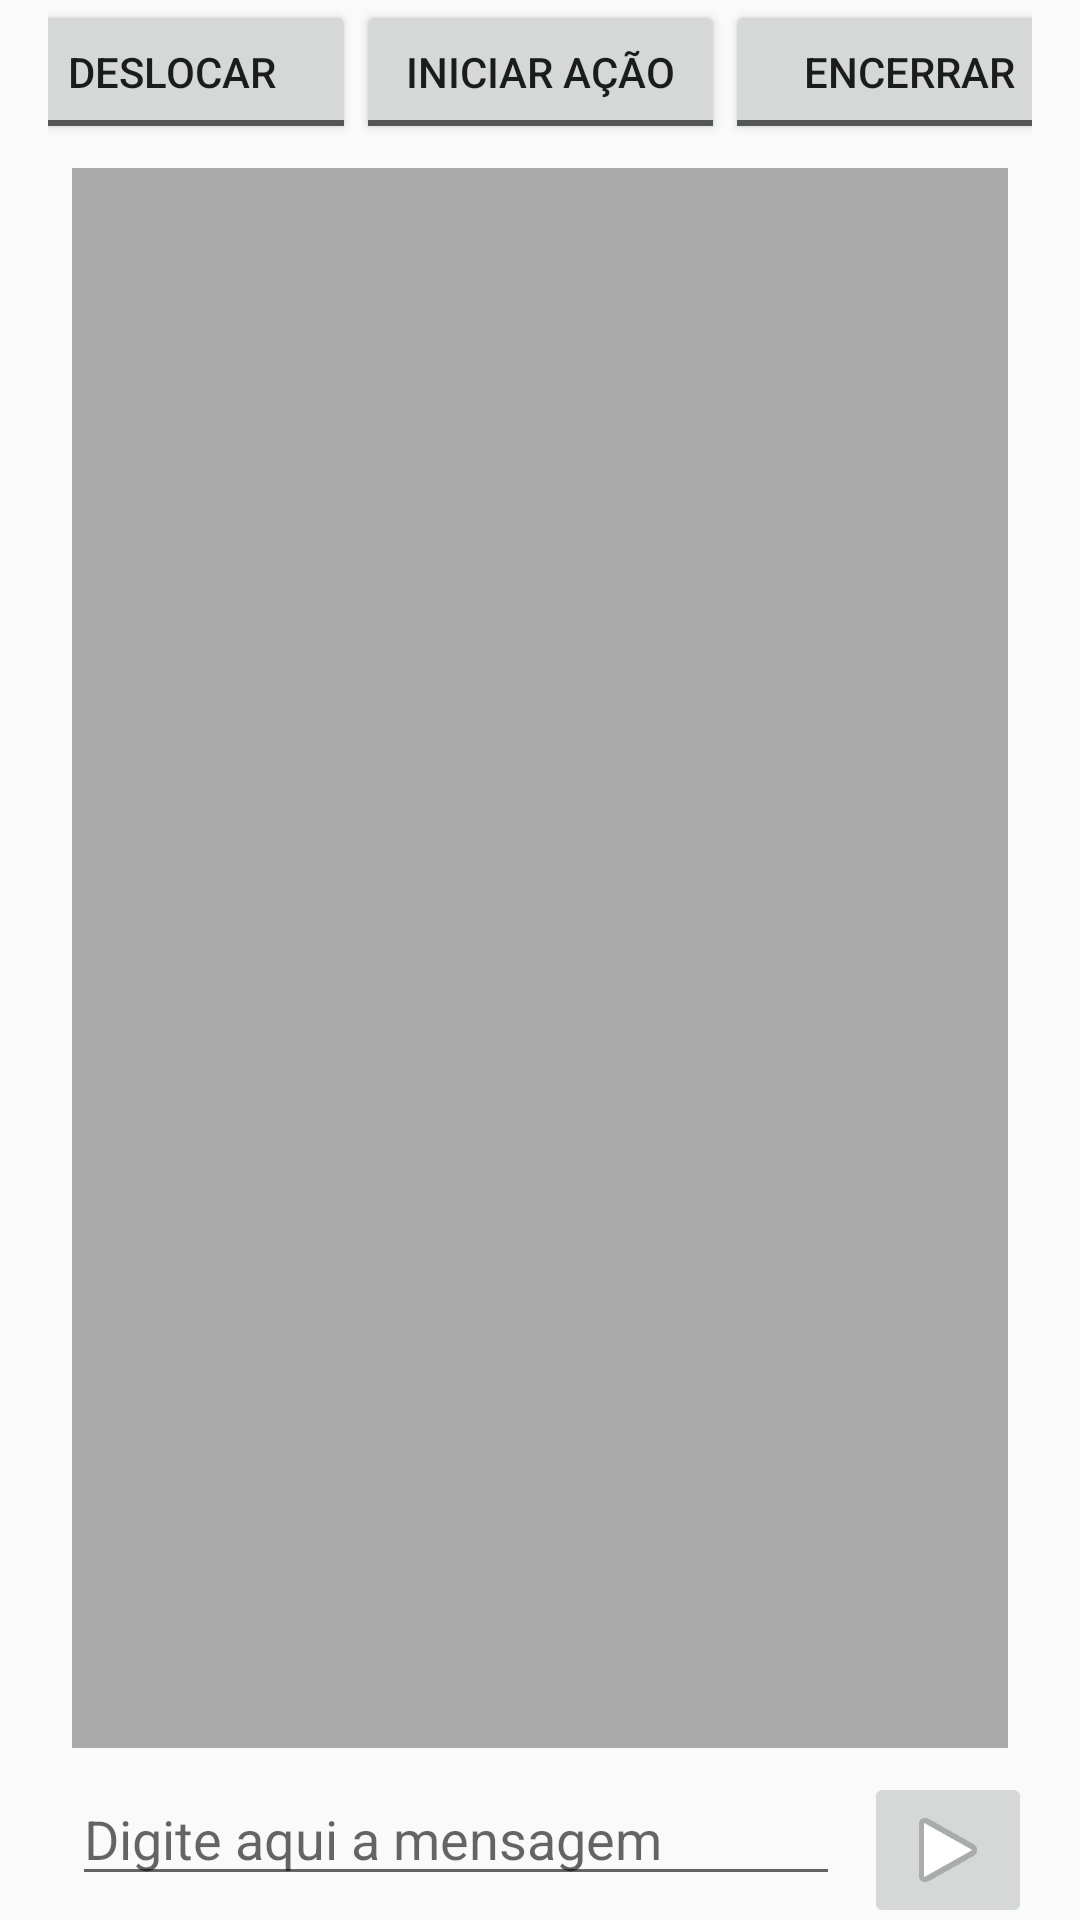

Where to tap for icons on this 1080px×1920px app screen, as [x,y]:
play: [948,1850]
